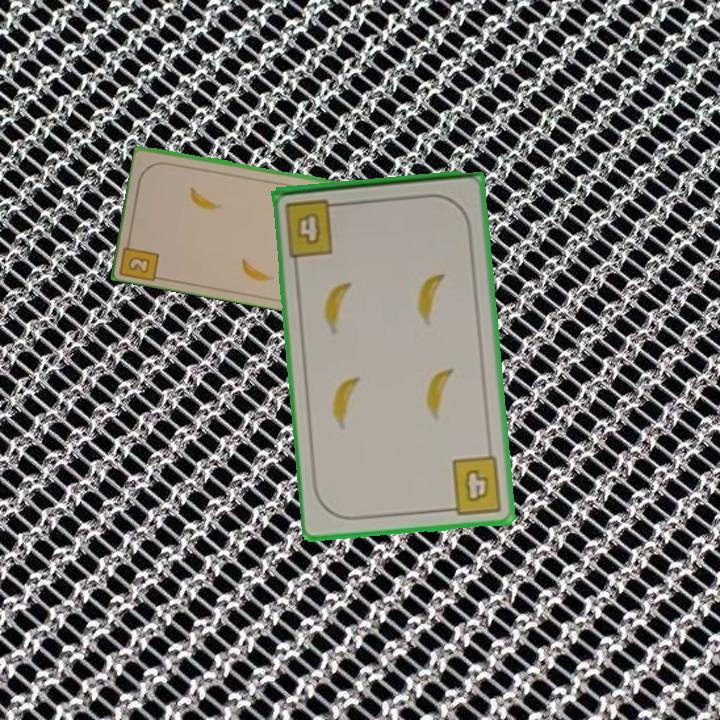2b: (119, 233, 163, 282)
4b: (281, 195, 346, 260), (441, 453, 506, 517)
